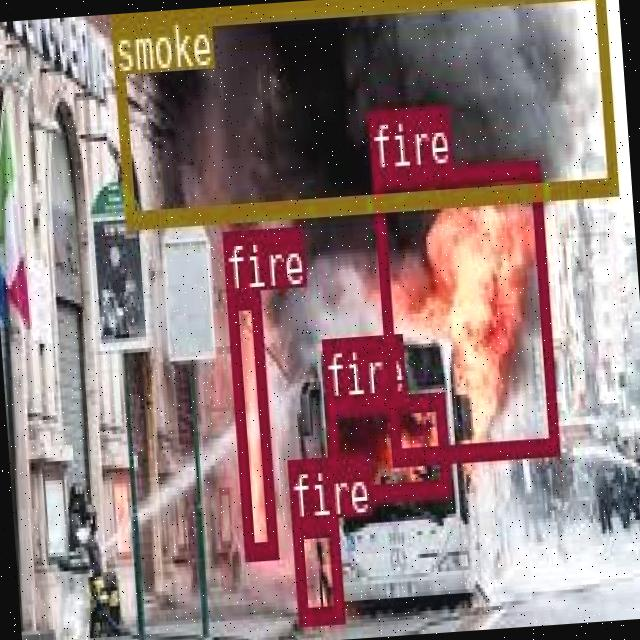fire: (371, 156, 557, 461), (223, 288, 276, 558), (324, 390, 448, 502), (290, 514, 342, 621)
smoke: (110, 0, 614, 223)
